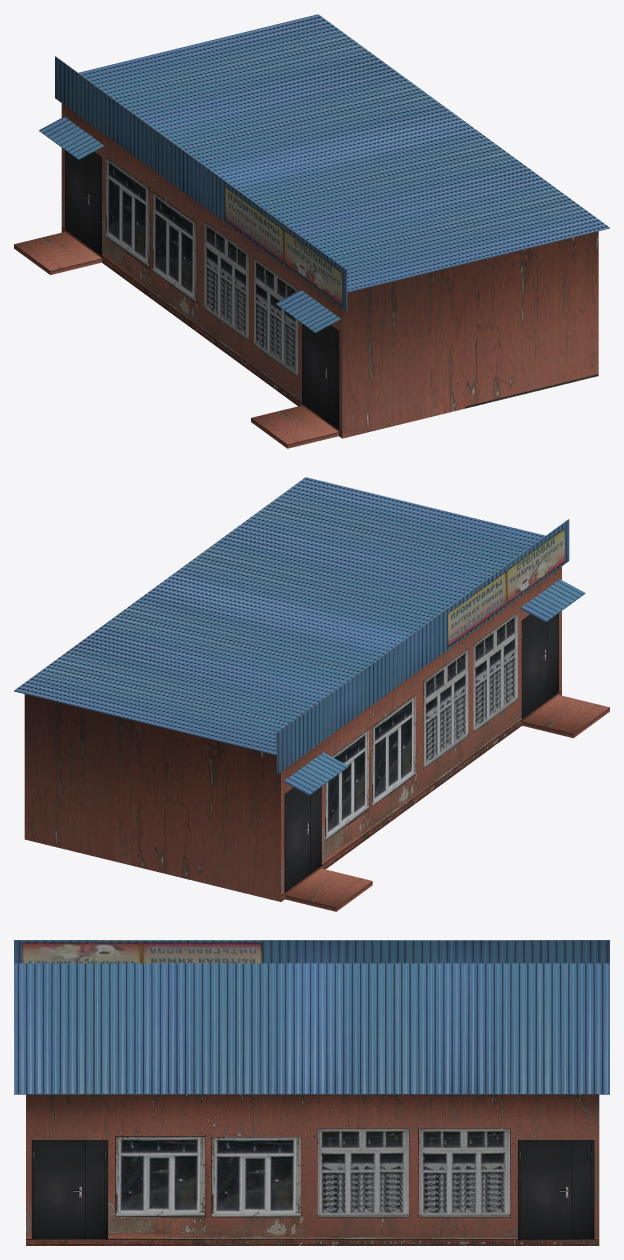
Rendered from r402_tukalinsk_kafe5.FBX.
3 renders of one model, top to bottom at view 1: azimuth 30°, elevation 25°; view 2: azimuth 150°, elevation 25°; view 3: azimuth 270°, elevation 25°, orthographic. The views are drawn at different scales.
Parts seen in each view (by area): view 1: r402_tukalinsk_kafe5; view 2: r402_tukalinsk_kafe5; view 3: r402_tukalinsk_kafe5.
Boxes of the visible parts, left/top/right/bottom form: r402_tukalinsk_kafe5: left=14, top=14, right=609, bottom=448; r402_tukalinsk_kafe5: left=14, top=477, right=609, bottom=911; r402_tukalinsk_kafe5: left=14, top=940, right=609, bottom=1245.
Bounding box in the file's own units: 7.33 × 11.82 × 3.87.
